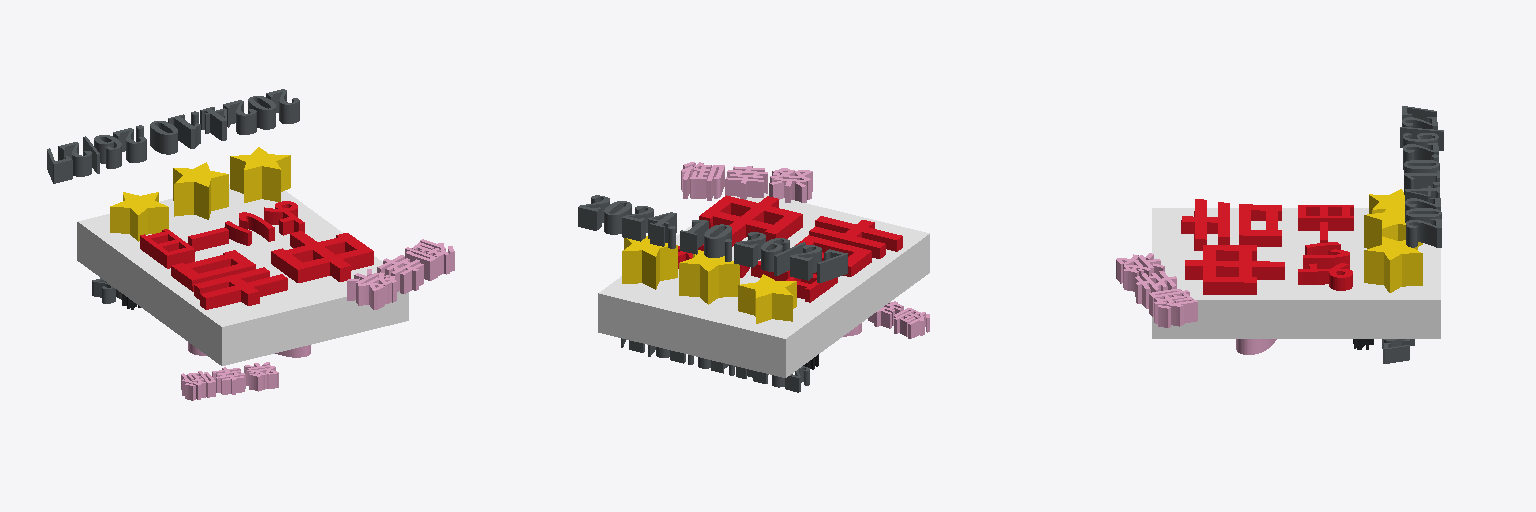
Rendered from tinker.obj.
3 renders of one model, left to right at view 1: azimuth 30°, elevation 25°; view 2: azimuth 150°, elevation 25°; view 3: azimuth 270°, elevation 25°, orthographic.
Visible parts, largest first — view 1: obj_0; view 2: obj_0; view 3: obj_0.
Part boxes in pixels (x1,y1,x2,y2): obj_0: (47, 89, 454, 400); obj_0: (578, 162, 929, 392); obj_0: (1116, 106, 1443, 363).
Bounding box in the file's own units: 16.91 × 9.33 × 17.03.